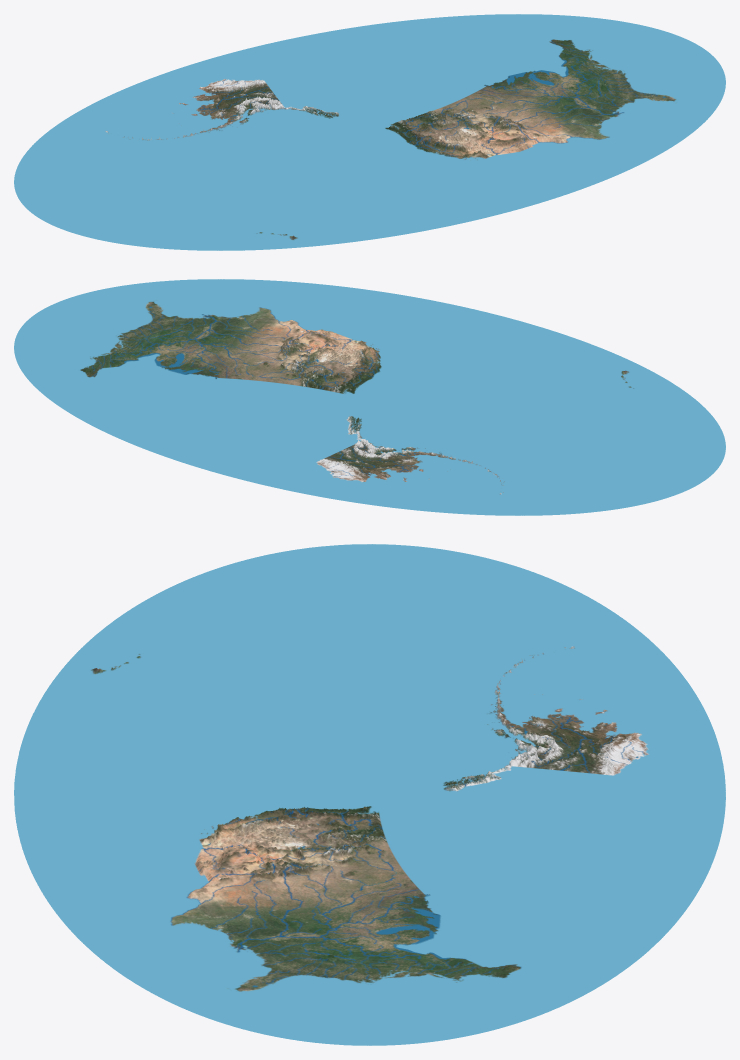
File: USA-previa-terrain.glb
3 renders of one model, top to bottom at view 1: azimuth 30°, elevation 25°; view 2: azimuth 150°, elevation 25°; view 3: azimuth 270°, elevation 25°, orthographic. The views are drawn at different scales.
Visible parts, largest first — view 1: Estados Unidos; view 2: Estados Unidos; view 3: Estados Unidos.
Boxes of the visible parts, bbox=[...] form: Estados Unidos: bbox=[14, 14, 725, 250]; Estados Unidos: bbox=[14, 279, 725, 515]; Estados Unidos: bbox=[14, 544, 725, 1045].
Size of the model in its own units: 2.18 by 0.0215 by 1.31.
1 material, 1 textured.
